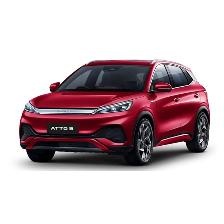EV: (21, 60, 211, 167)
